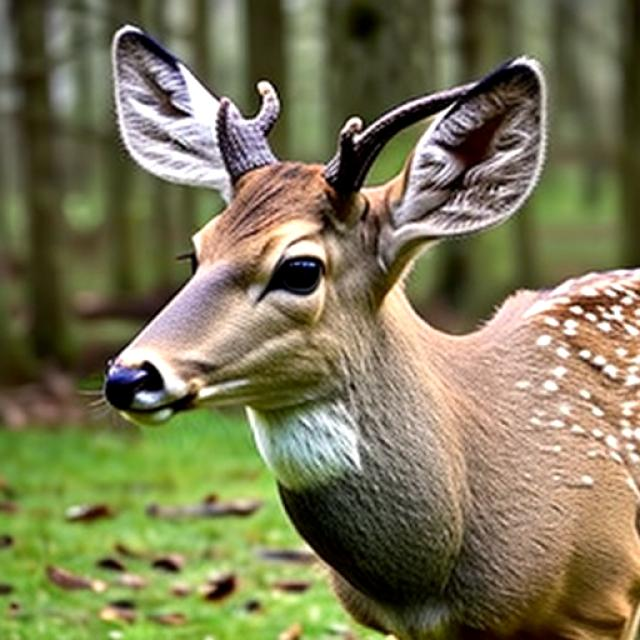deer: (30, 8, 577, 531)
